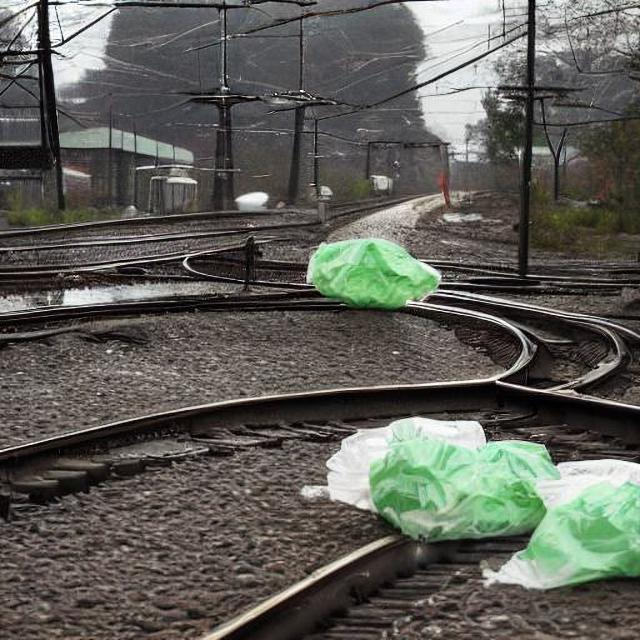floating object: (305, 236, 437, 308)
plastic bag: (314, 398, 551, 538), (492, 467, 636, 585), (305, 236, 440, 310)
